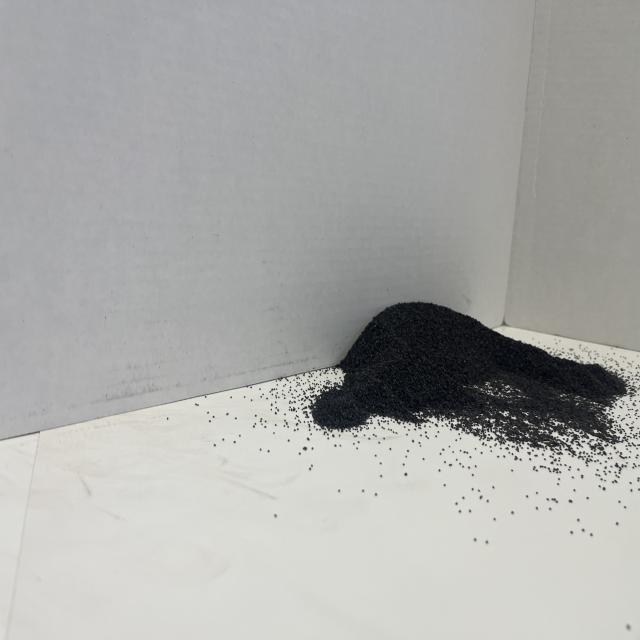Poppy Seeds: (332, 300, 586, 460)
